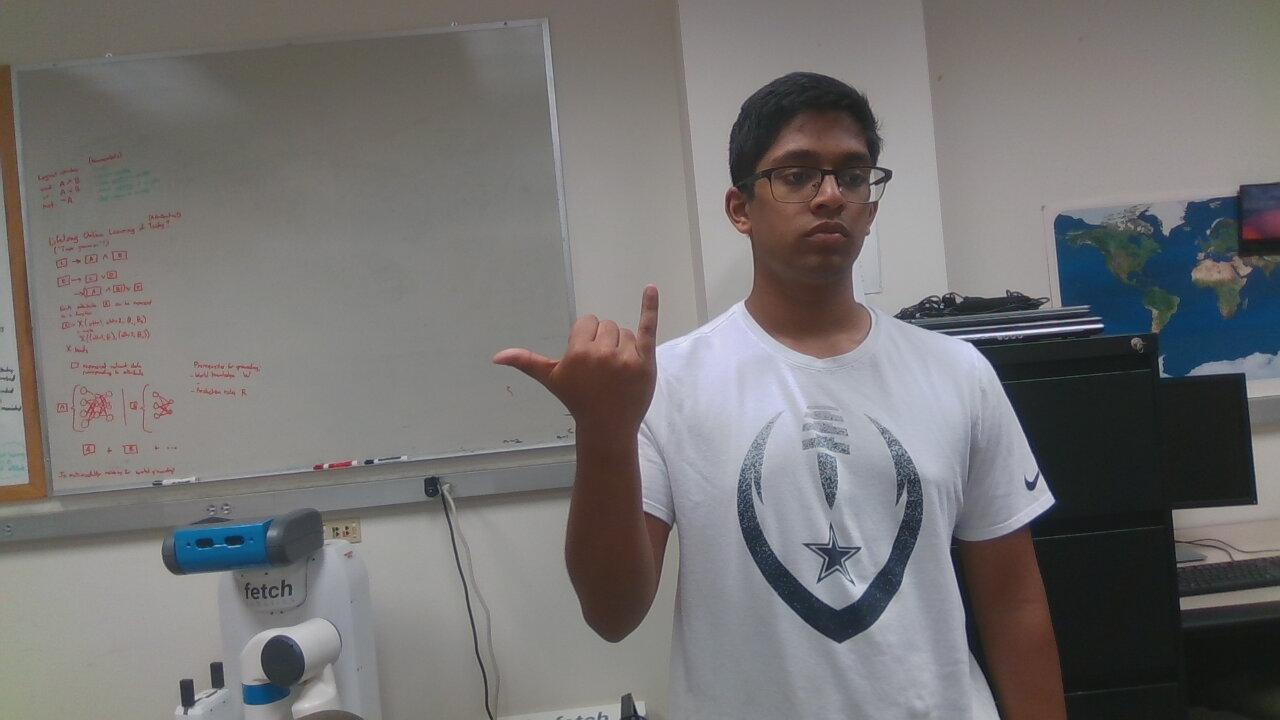hands: (486, 249, 704, 452)
